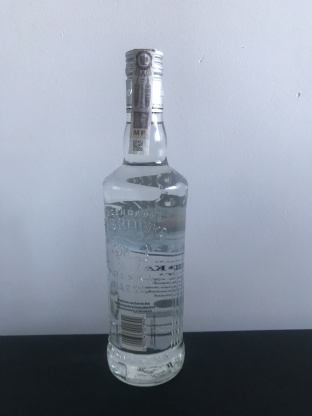nakretka: (123, 44, 166, 116)
